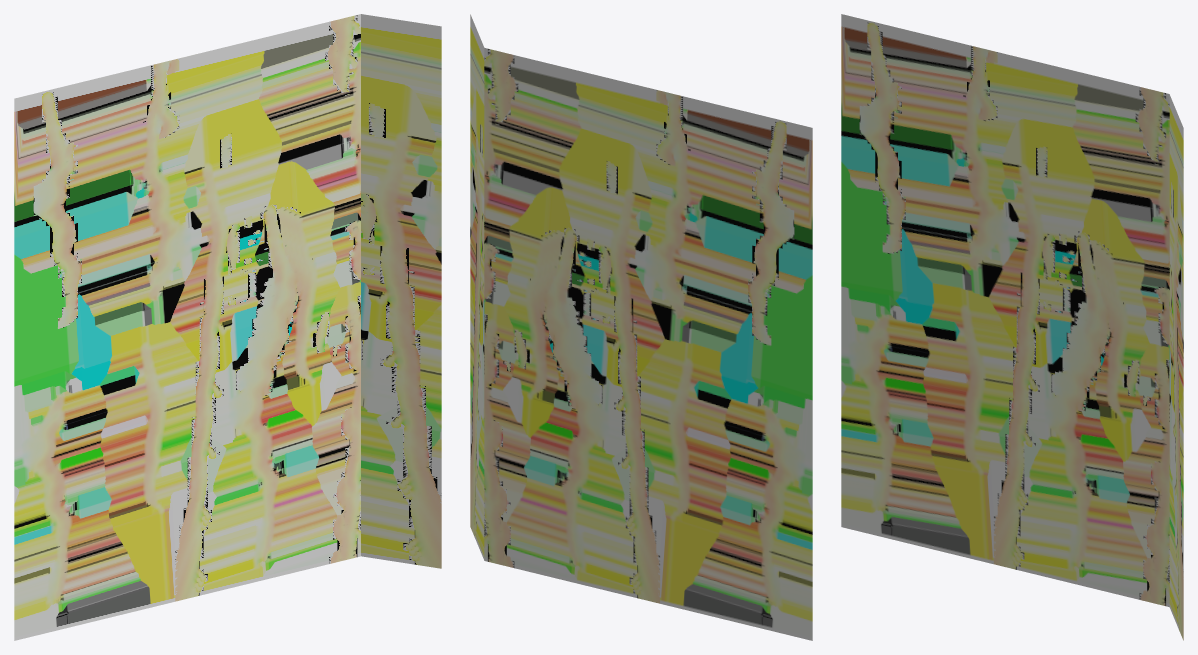
File: light_wall.glb
3 renders of one model, left to right at view 1: azimuth 30°, elevation 25°; view 2: azimuth 150°, elevation 25°; view 3: azimuth 330°, elevation 25°, orthographic. The views are drawn at different scales.
Visible parts, largest first — view 1: Cube.001; view 2: Cube.001; view 3: Cube.001.
Boxes of the visible parts, left/top/right/bottom form: Cube.001: left=14, top=14, right=441, bottom=640; Cube.001: left=470, top=14, right=812, bottom=640; Cube.001: left=841, top=14, right=1183, bottom=640.
Size of the model in its own units: 9.76 by 12.82 by 1.41.
Materials: 1 (1 with a texture image).
